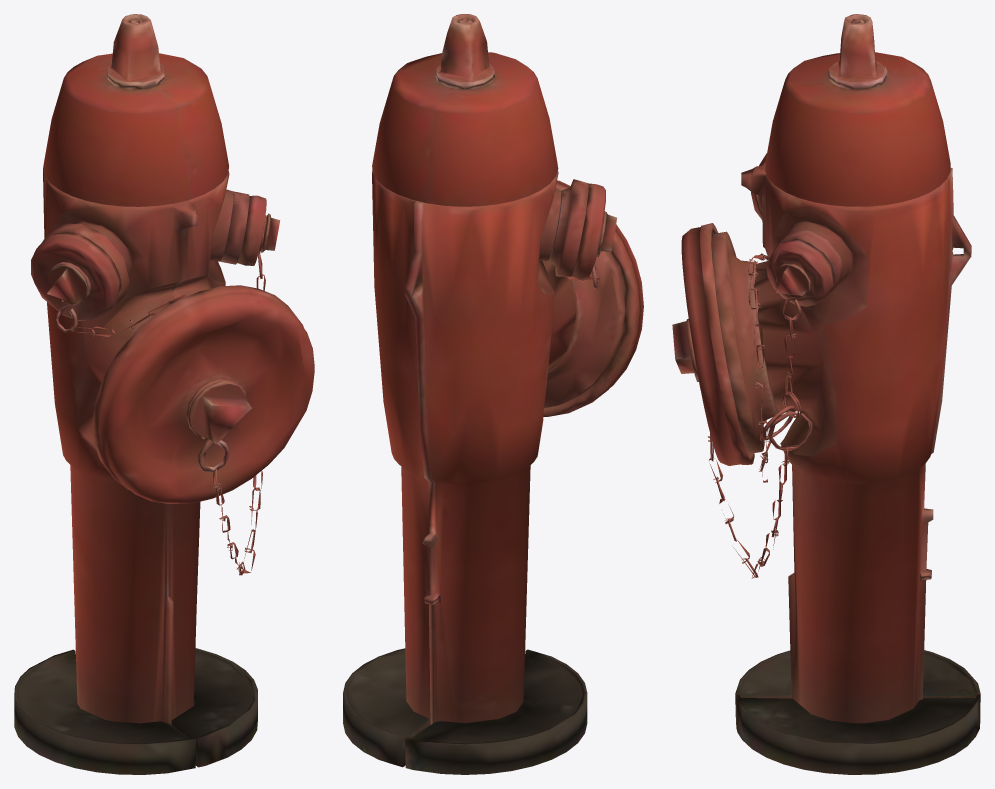
File: fire_hydrant.glb
3 renders of one model, left to right at view 1: azimuth 30°, elevation 25°; view 2: azimuth 150°, elevation 25°; view 3: azimuth 270°, elevation 25°, orthographic.
Parts seen in each view (by area): view 1: fire_hydrant; view 2: fire_hydrant; view 3: fire_hydrant.
Boxes of the visible parts, x1=… form: fire_hydrant: x1=14, y1=14, x2=314, y2=774; fire_hydrant: x1=343, y1=14, x2=643, y2=774; fire_hydrant: x1=672, y1=14, x2=980, y2=774.
Bounding box in the file's own units: 0.2745 × 0.7994 × 0.3173.
1 material, 1 textured.
